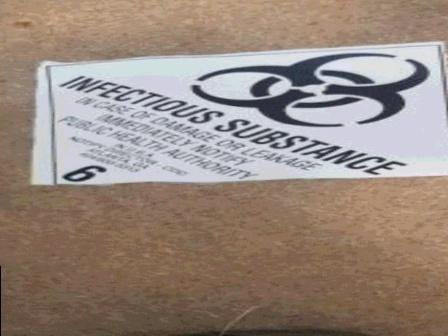infectious-substance: (29, 42, 448, 182)
